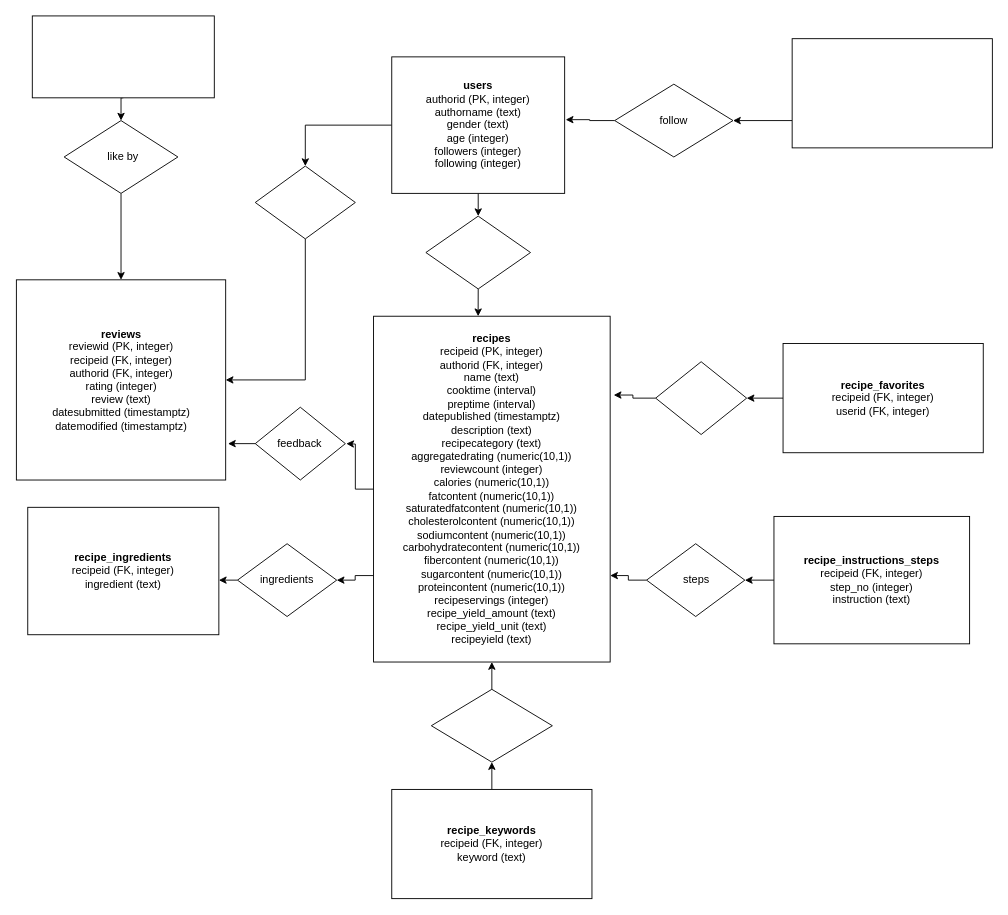
The diagram is 1008 pixels wide and 915 high, and some of its shapes have lost their labels. Here are the shapes that lost their labels. From the top down, the centre of each, then its label:
At pixel 122 56: "review_likes reviewid (FK, integer) userid (FK, integer)".
At pixel 891 93: "users_follow user_id (FK, integer) follower_id (FK, integer)".
At pixel 304 202: "publish".
At pixel 478 252: "pubilsh".
At pixel 701 398: "favorite by".
At pixel 491 725: "keywords".
